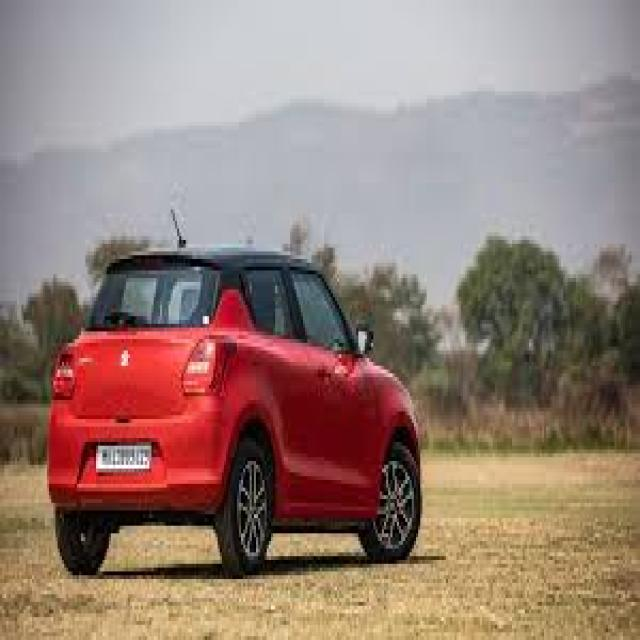cars: (36, 225, 436, 590)
